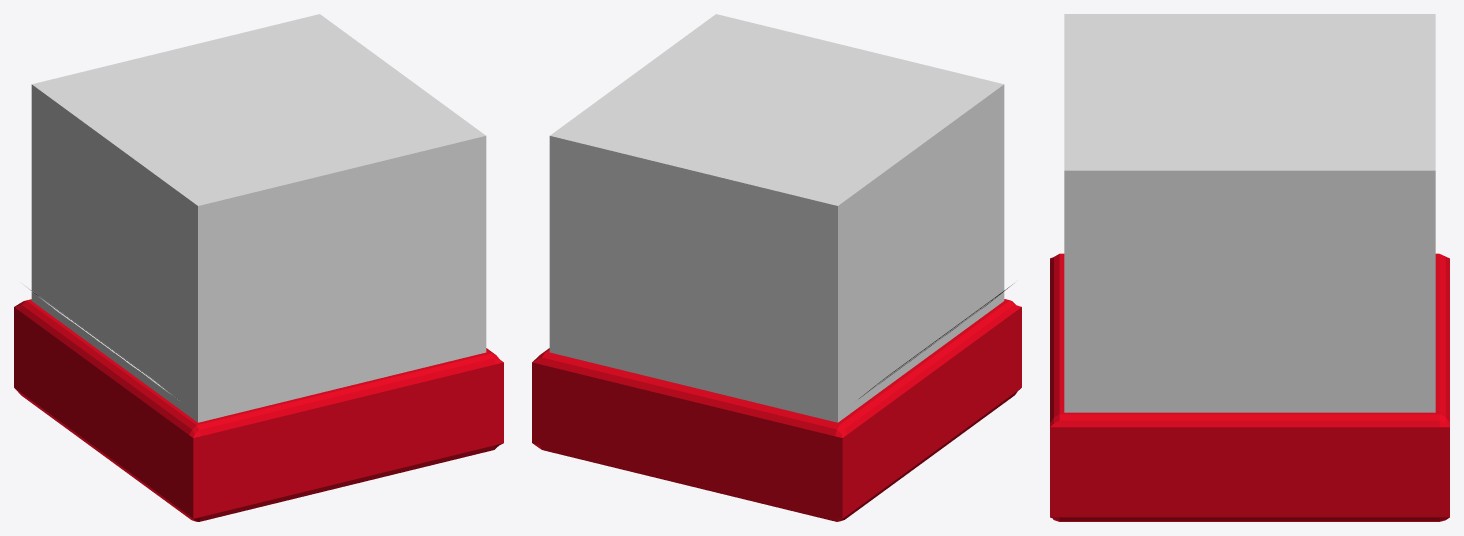
File: outbox.fbx
The picture shows the model from 3 angles, left to right: view 1: azimuth 30°, elevation 25°; view 2: azimuth 150°, elevation 25°; view 3: azimuth 270°, elevation 25°; orthographic projection. The views are drawn at different scales.
Visible parts, largest first — view 1: Cube.001, Cube; view 2: Cube.001, Cube; view 3: Cube.001, Cube.
Part boxes in pixels (x1,y1,x2,y2): Cube.001: (31,14,486,422); Cube: (14,299,503,521); Cube.001: (549,14,1004,422); Cube: (532,299,1021,521); Cube.001: (1064,14,1435,412); Cube: (1050,253,1449,521).
Bounding box in the file's own units: 212 × 193 × 200.
Materials: 2 (1 with a texture image).
